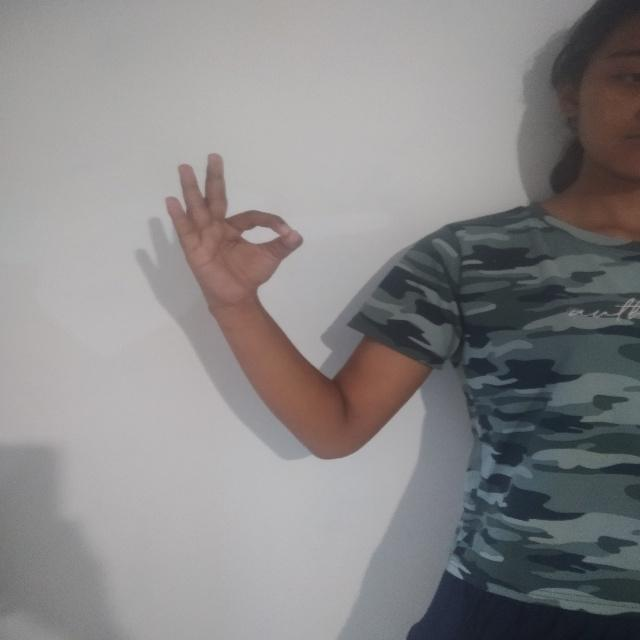Okay: (157, 145, 311, 329)
